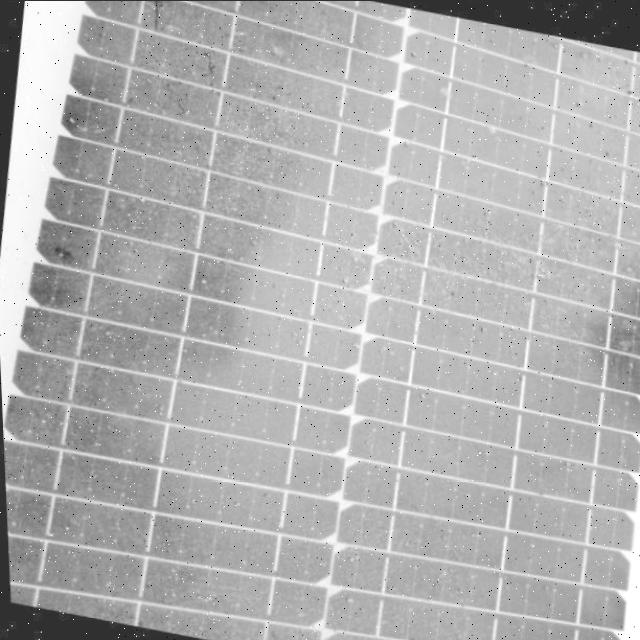Anomaly Solar Panel: (0, 0, 640, 640)
Surface Contaminant: (4, 0, 640, 640)
